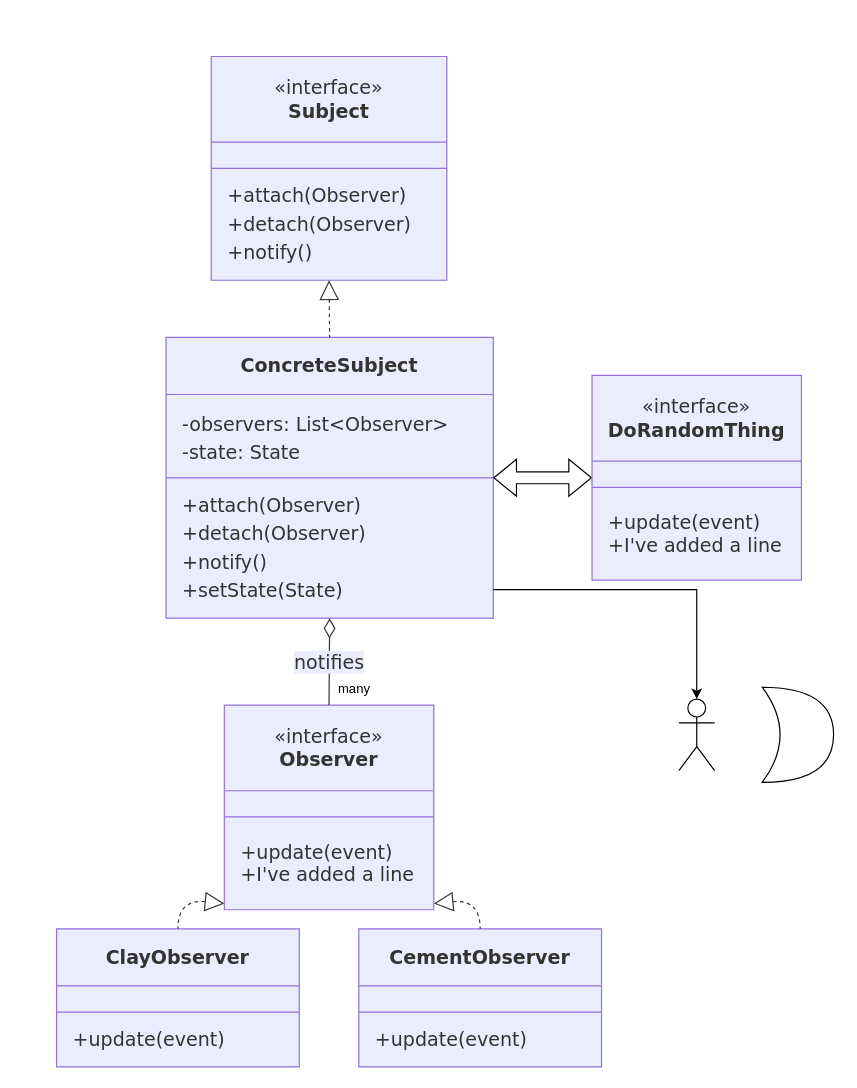
Image size: 857x1088. Some labels were removed from this diagram. The shapes that lost their labels are listed below. From the top down, each one's centre as x and y in pixels, then its label:
pixel 696 734: Actor
pixel 797 734: Say Hi
